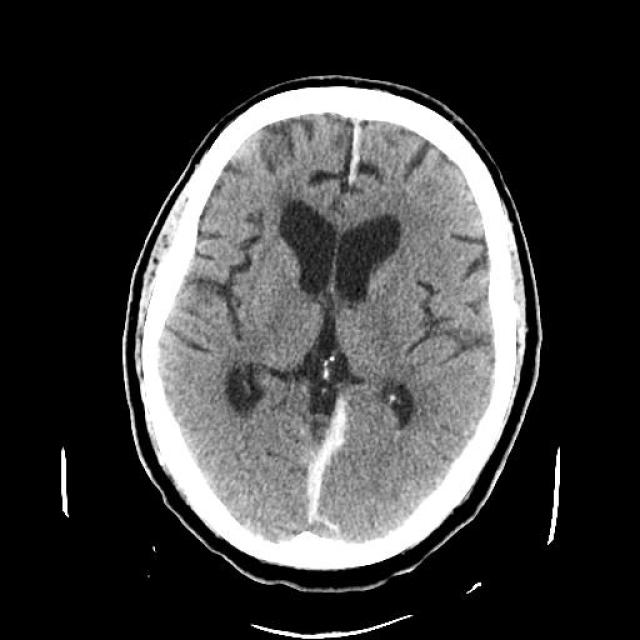Subdural: (302, 389, 362, 545)
